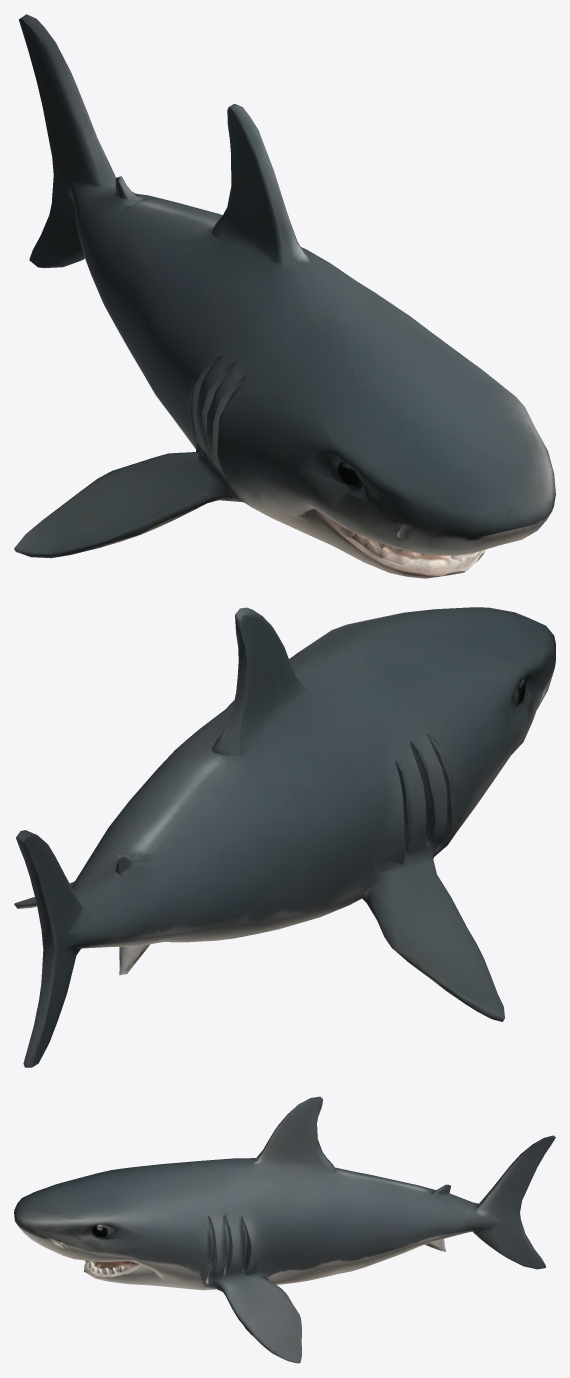
File: shark.glb
3 renders of one model, top to bottom at view 1: azimuth 30°, elevation 25°; view 2: azimuth 150°, elevation 25°; view 3: azimuth 270°, elevation 25°, orthographic. The views are drawn at different scales.
Visible parts, largest first — view 1: model; view 2: model; view 3: model.
Part boxes in pixels (box(x1,y1,x2,y2)): model: box(14, 14, 555, 578); model: box(14, 607, 555, 1067); model: box(14, 1096, 555, 1363).
Size of the model in its own units: 1.09 by 0.7876 by 1.9.
Materials: 1 (1 with a texture image).
